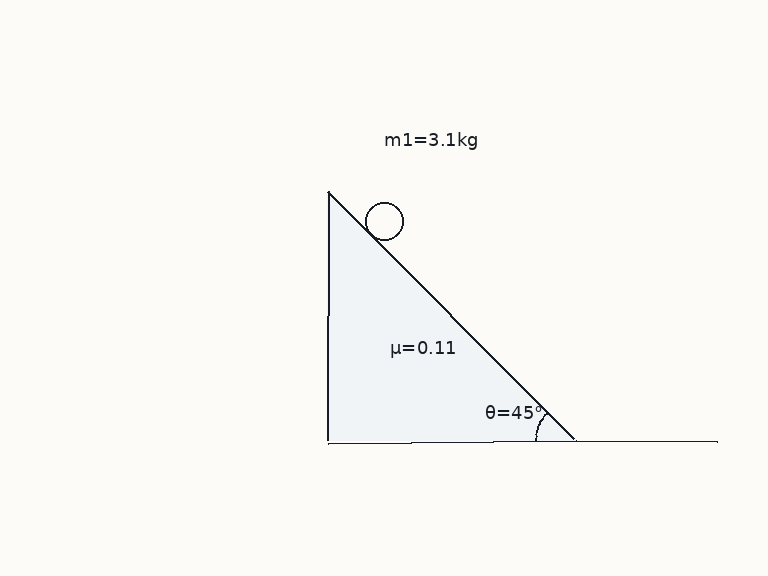ball: (363, 200, 405, 242)
ramp: (325, 189, 578, 442)
